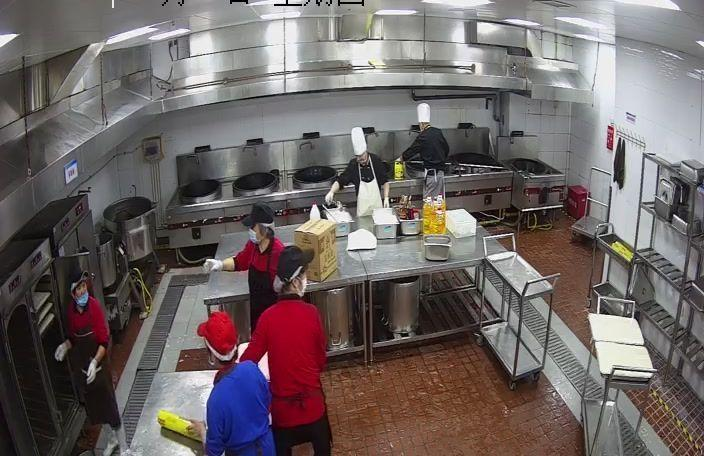mask: (74, 286, 92, 304)
